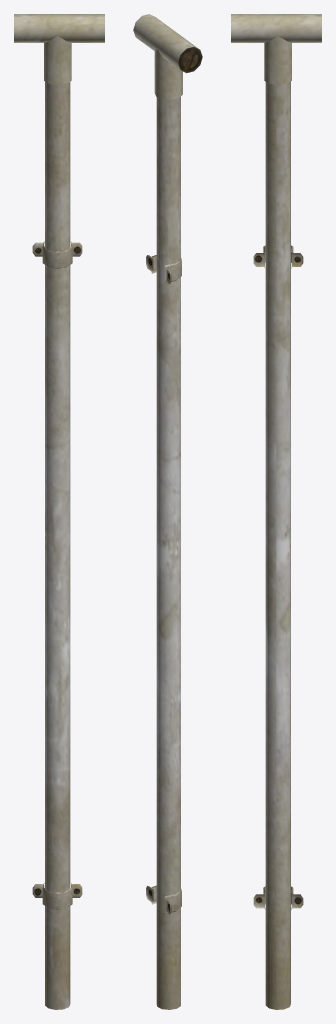
The model's file is Electric_Pipe_Small.fbx.
3 views of the same model, side by side, from view 1: azimuth 90°, elevation 25°; view 2: azimuth 210°, elevation 25°; view 3: azimuth 270°, elevation 25° (orthographic).
Visible parts, largest first — view 1: Electric_Pipe_Small; view 2: Electric_Pipe_Small; view 3: Electric_Pipe_Small.
Part boxes in pixels (x1,y1,x2,y2): Electric_Pipe_Small: [14, 14, 104, 1009]; Electric_Pipe_Small: [133, 14, 202, 1009]; Electric_Pipe_Small: [231, 14, 321, 1009].
Bounding box in the file's own units: 0.0274 × 1.03 × 0.0856.
